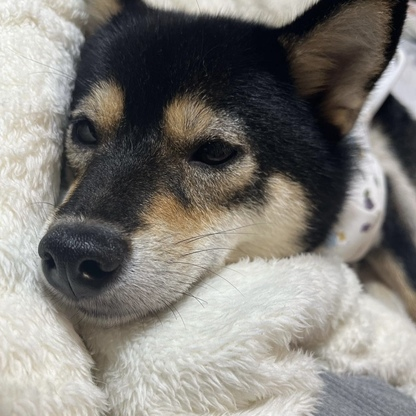shiba: (35, 1, 416, 345)
